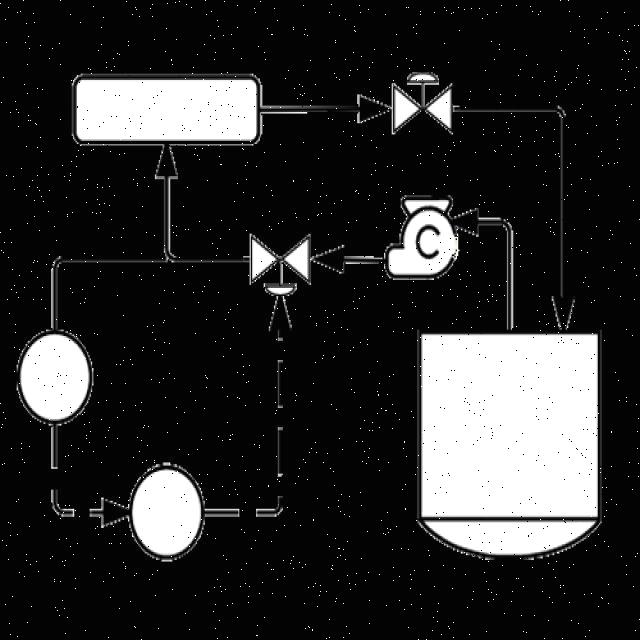Centrifugal Pump: (374, 187, 467, 289)
Pneumatic-Diaphragm Gate Valve: (389, 61, 461, 136), (247, 228, 312, 298)
